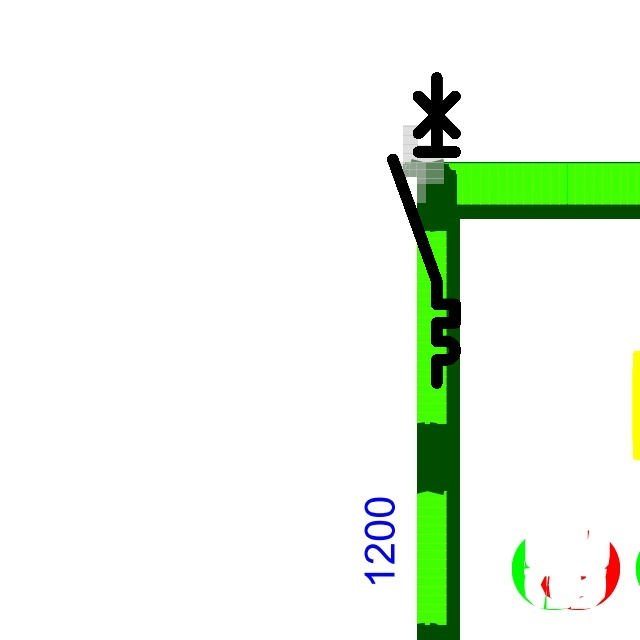interruptor_termomagnetico: (385, 70, 463, 391)
